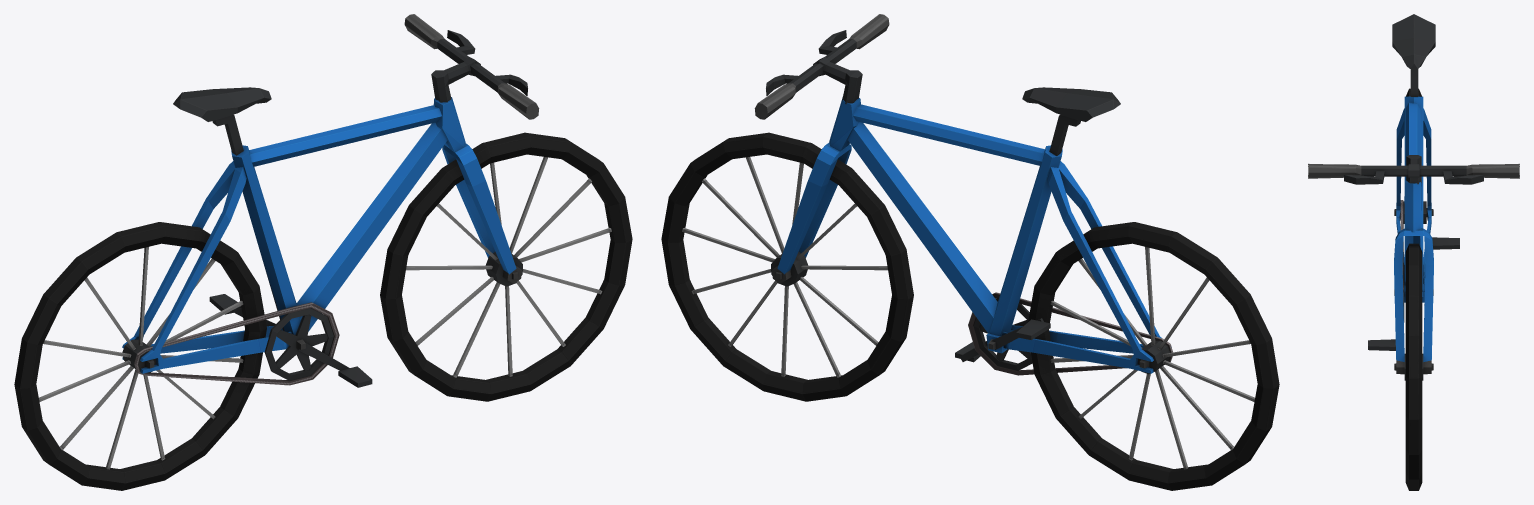
Rendered from Bicycle.glb.
3 renders of one model, left to right at view 1: azimuth 30°, elevation 25°; view 2: azimuth 150°, elevation 25°; view 3: azimuth 270°, elevation 25°, orthographic. The views are drawn at different scales.
Parts seen in each view (by area): view 1: Bike_mesh; view 2: Bike_mesh; view 3: Bike_mesh.
Boxes of the visible parts, x1,y1,x2,y2 form: Bike_mesh: [14, 14, 632, 490]; Bike_mesh: [661, 14, 1279, 490]; Bike_mesh: [1308, 14, 1519, 490].
Size of the model in its own units: 3.61 by 2.11 by 1.24.
1 material, 1 textured.
